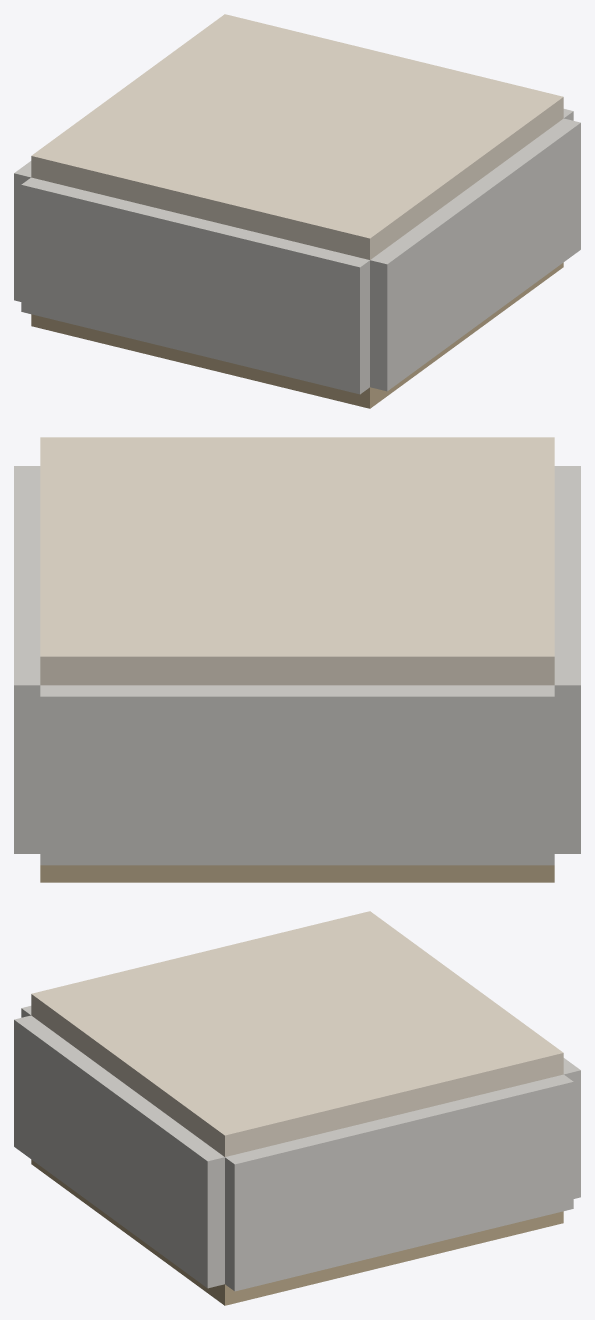
The picture shows the model from 3 angles, top to bottom: view 1: azimuth 30°, elevation 25°; view 2: azimuth 150°, elevation 25°; view 3: azimuth 270°, elevation 25°; orthographic projection. The views are drawn at different scales.
Parts seen in each view (by area): view 1: Ceiling, Wall_04, Wall_01, Floor, Wall_03; view 2: Ceiling, Wall_03, Wall_02, Wall_04, Floor; view 3: Ceiling, Wall_02, Wall_01, Floor, Wall_03.
Boxes of the visible parts, left/top/right/bottom form: Ceiling: left=31, top=14, right=563, bottom=259; Wall_04: left=21, top=177, right=369, bottom=394; Wall_01: left=370, top=118, right=580, bottom=391; Floor: left=31, top=262, right=563, bottom=408; Wall_03: left=14, top=161, right=31, bottom=301; Ceiling: left=40, top=437, right=554, bottom=685; Wall_03: left=40, top=685, right=554, bottom=865; Wall_02: left=14, top=466, right=40, bottom=853; Wall_04: left=554, top=466, right=580, bottom=853; Floor: left=40, top=865, right=554, bottom=882; Ceiling: left=31, top=911, right=563, bottom=1156; Wall_02: left=225, top=1074, right=573, bottom=1291; Wall_01: left=14, top=1015, right=224, bottom=1288; Floor: left=31, top=1159, right=563, bottom=1305; Wall_03: left=563, top=1058, right=580, bottom=1198.
Size of the model in its own units: 7.11 by 2.36 by 7.13.
